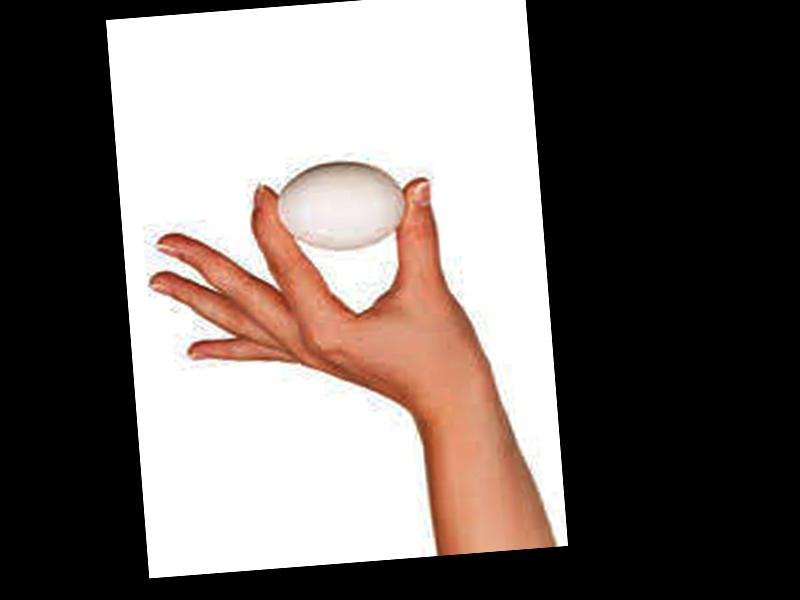Eggs: (272, 155, 408, 255)
